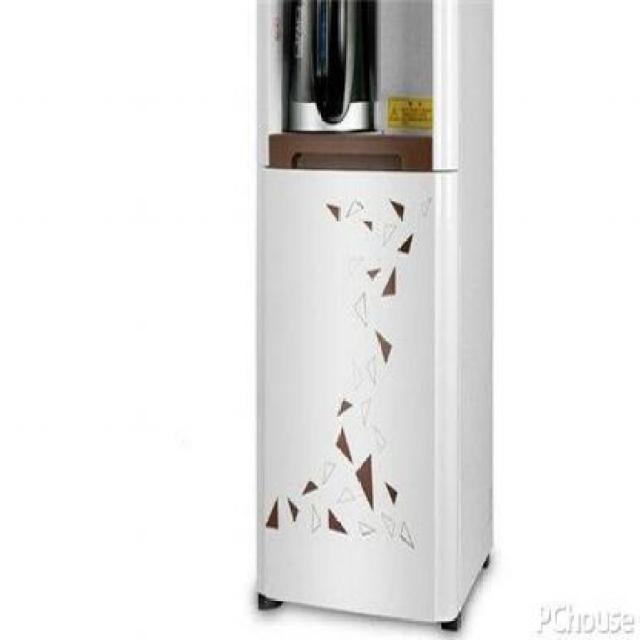cooler: (254, 0, 493, 640)
